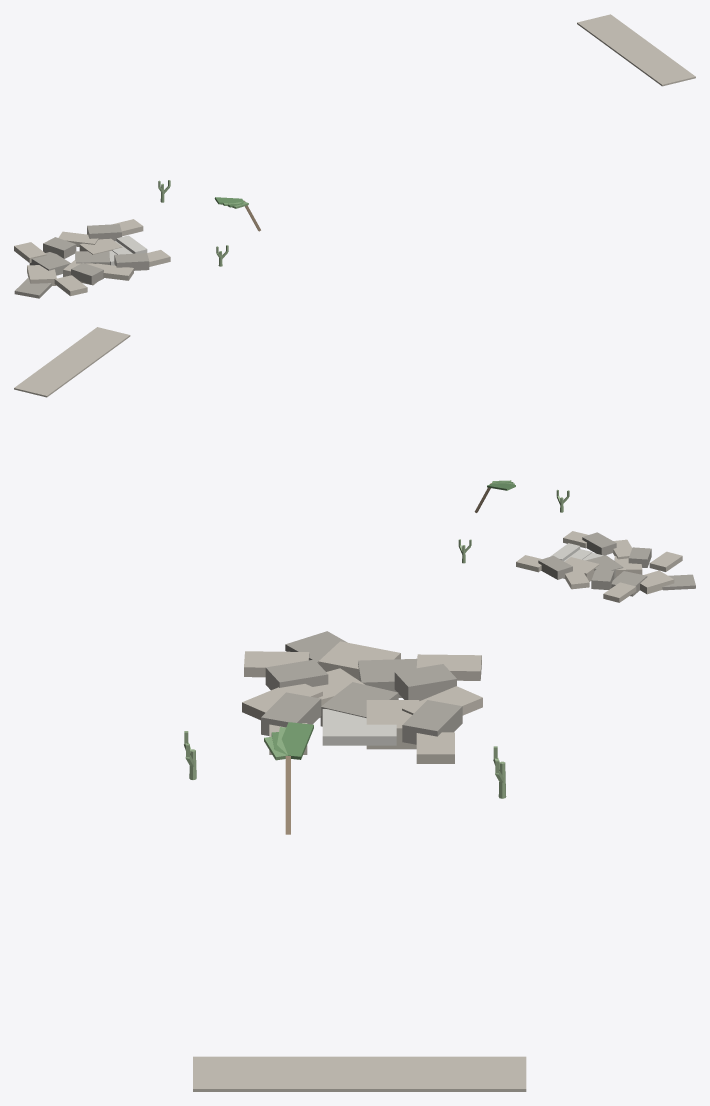
File: nw_tres.glb
3 renders of one model, top to bottom at view 1: azimuth 30°, elevation 25°; view 2: azimuth 150°, elevation 25°; view 3: azimuth 270°, elevation 25°, orthographic. The views are drawn at different scales.
Parts seen in each view (by area): view 1: nw_tres_lod0; view 2: nw_tres_lod0; view 3: nw_tres_lod0.
Boxes of the visible parts, x1=… form: nw_tres_lod0: x1=14, y1=14, x2=695, y2=298; nw_tres_lod0: x1=14, y1=327, x2=695, y2=602; nw_tres_lod0: x1=184, y1=631, x2=526, y2=1091.
Size of what is drawn, in the model's own units: 61.35 by 7.69 by 14.39.
